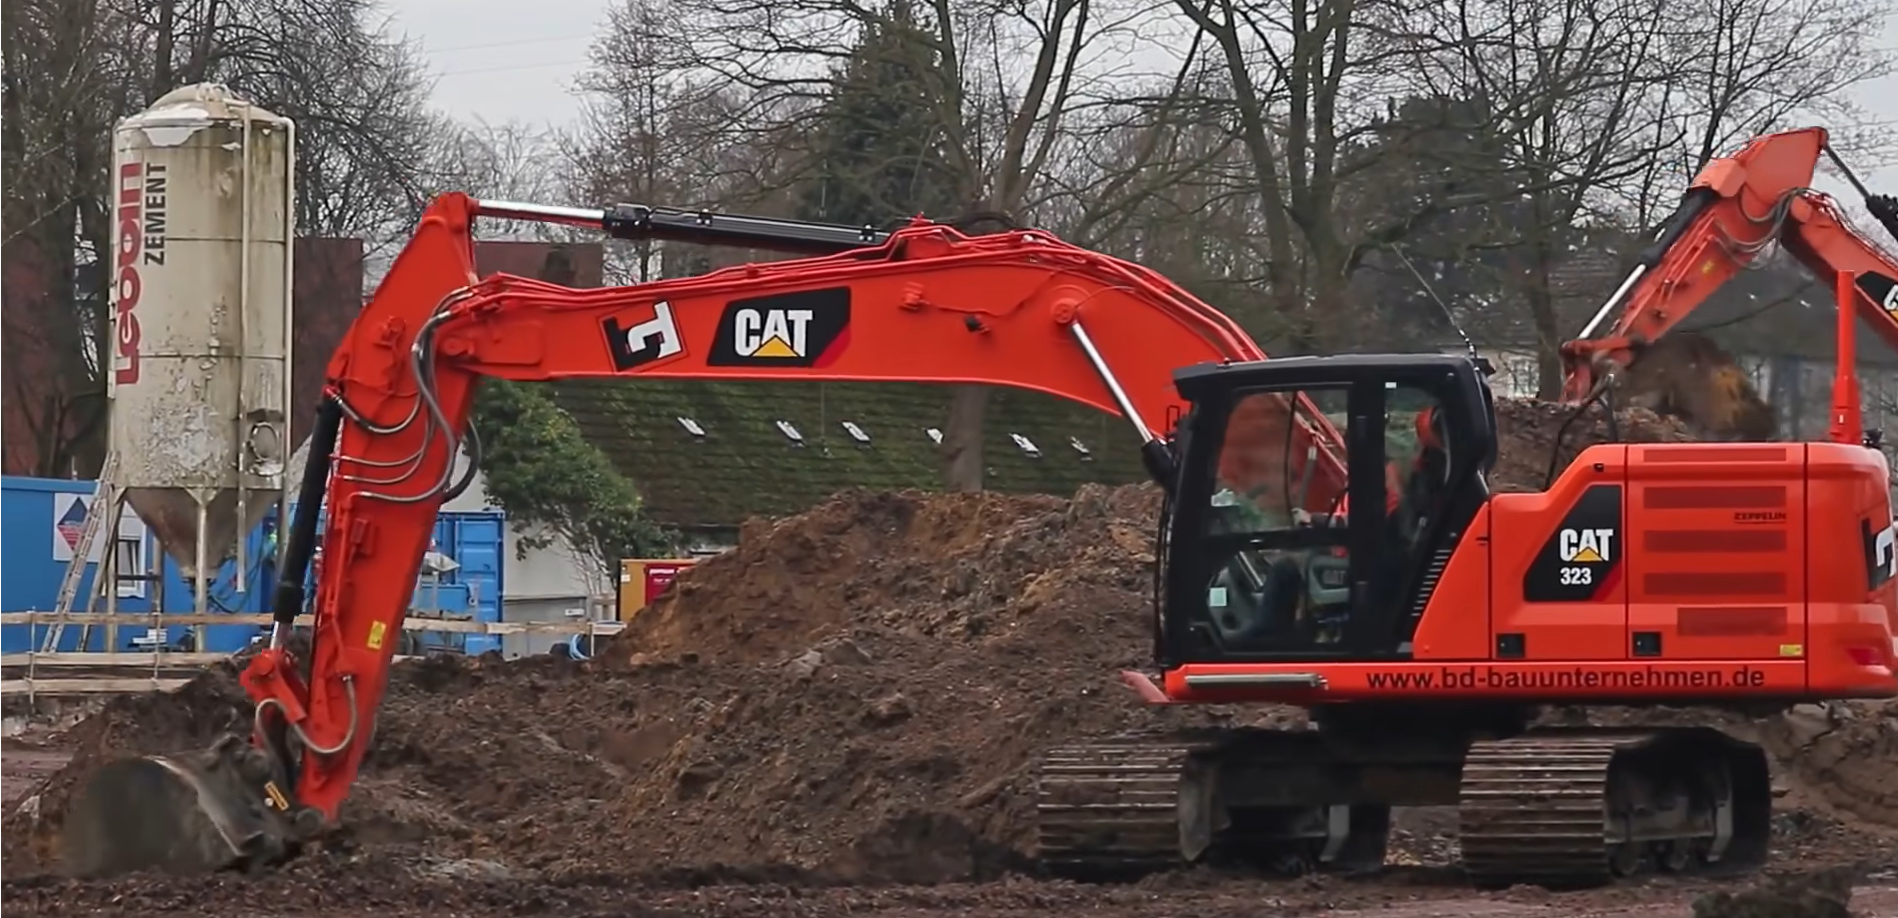excavator: (114, 148, 1898, 918)
